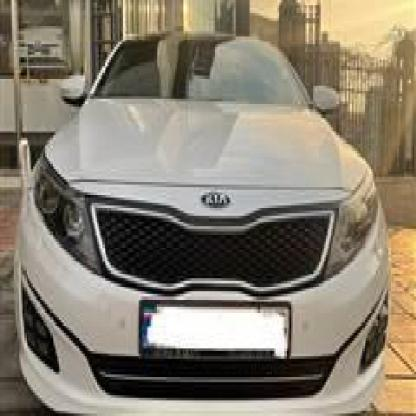Car: (9, 21, 392, 416)
